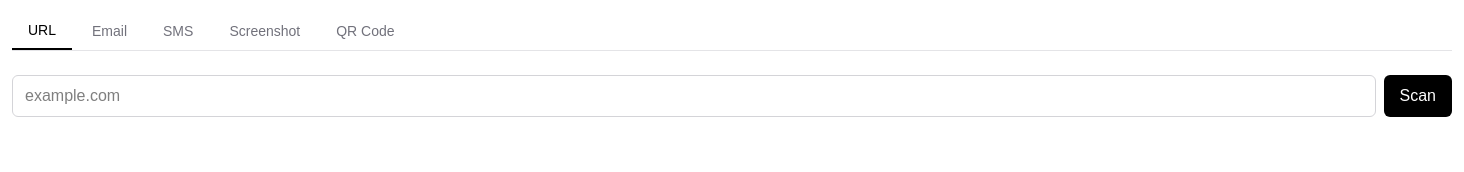
Test: ScanTabs › switches to the Screenshot form when the Screenshot tab is clicked
What coordinates should you click on to do the following:
click the tab "Screenshot"
I would click on:
 (265, 31)
Its box is [213,12,316,50].
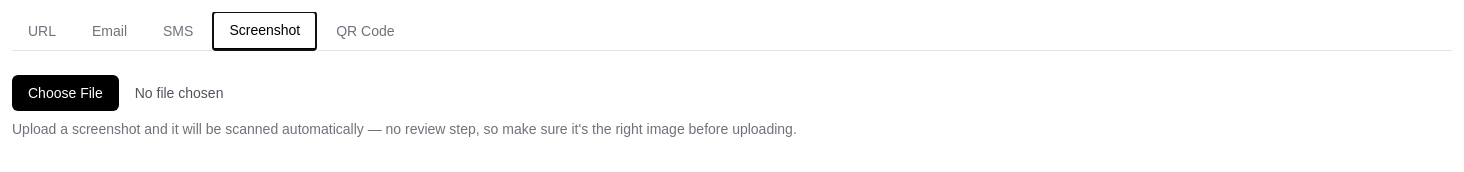
Expected: the field with placeholder "example.com" is not shown
Result: the file field named "upload a screenshot to scan" is shown at [12,75,1452,111]
